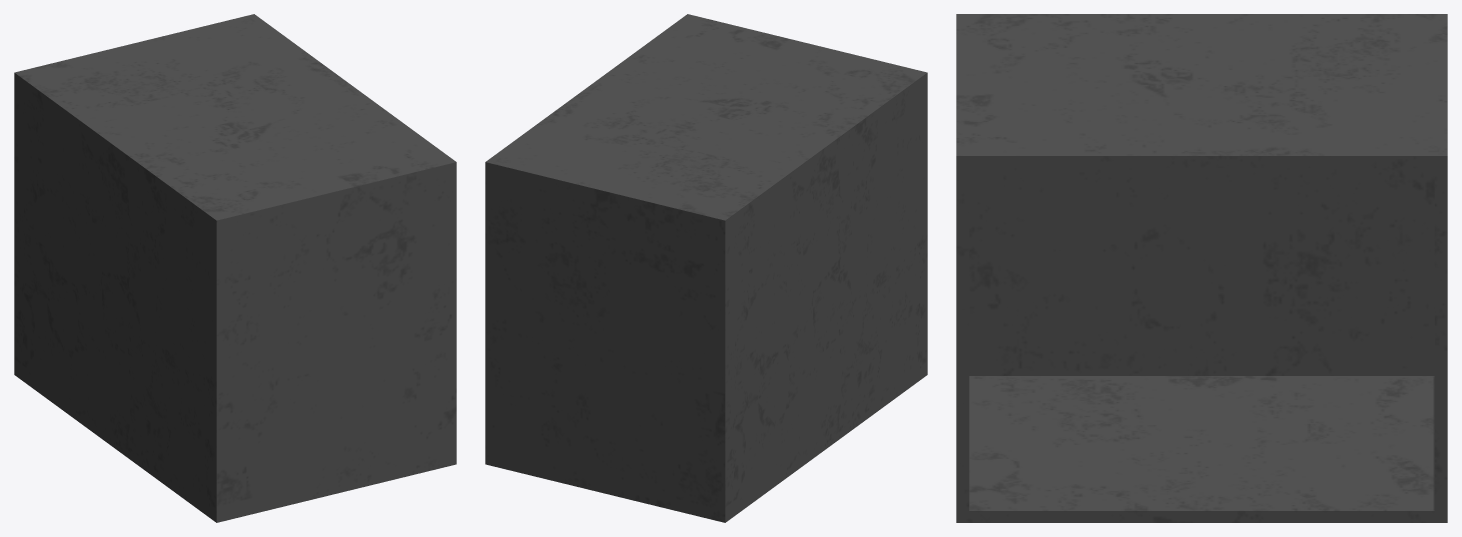
Rendered from Final_Cubicle.glb.
The picture shows the model from 3 angles, left to right: view 1: azimuth 30°, elevation 25°; view 2: azimuth 150°, elevation 25°; view 3: azimuth 270°, elevation 25°; orthographic projection. The views are drawn at different scales.
Parts seen in each view (by area): view 1: Kubus; view 2: Kubus; view 3: Kubus.
Boxes of the visible parts, x1=… form: Kubus: x1=14, y1=14, x2=456, y2=522; Kubus: x1=485, y1=14, x2=927, y2=522; Kubus: x1=956, y1=14, x2=1447, y2=522.
Bounding box in the file's own units: 11.43 × 13.76 × 16.69.
1 material, 1 textured.
